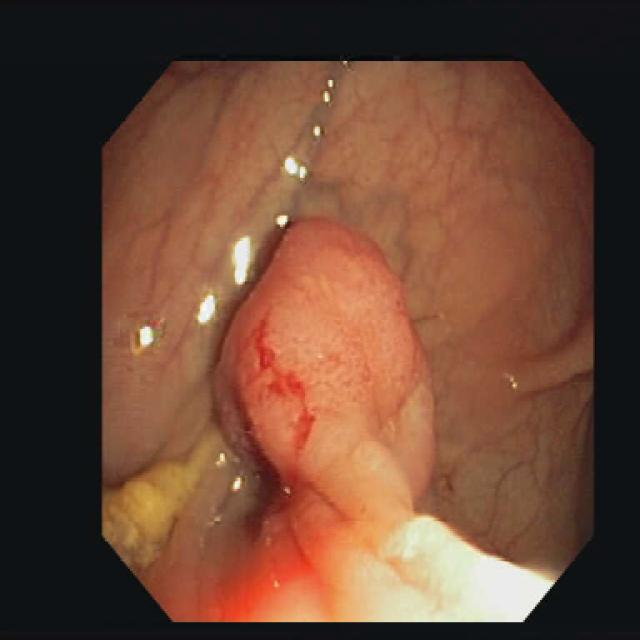tumor: (217, 220, 470, 618)
